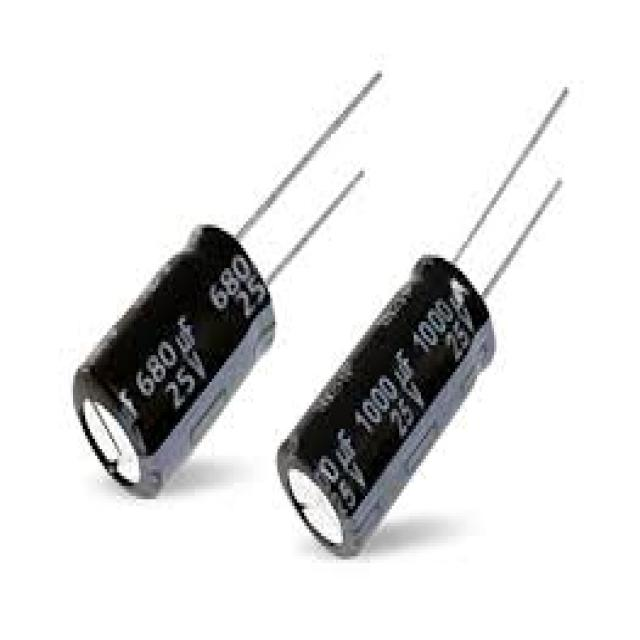Capacitor: (275, 255, 496, 563), (71, 225, 277, 499)
